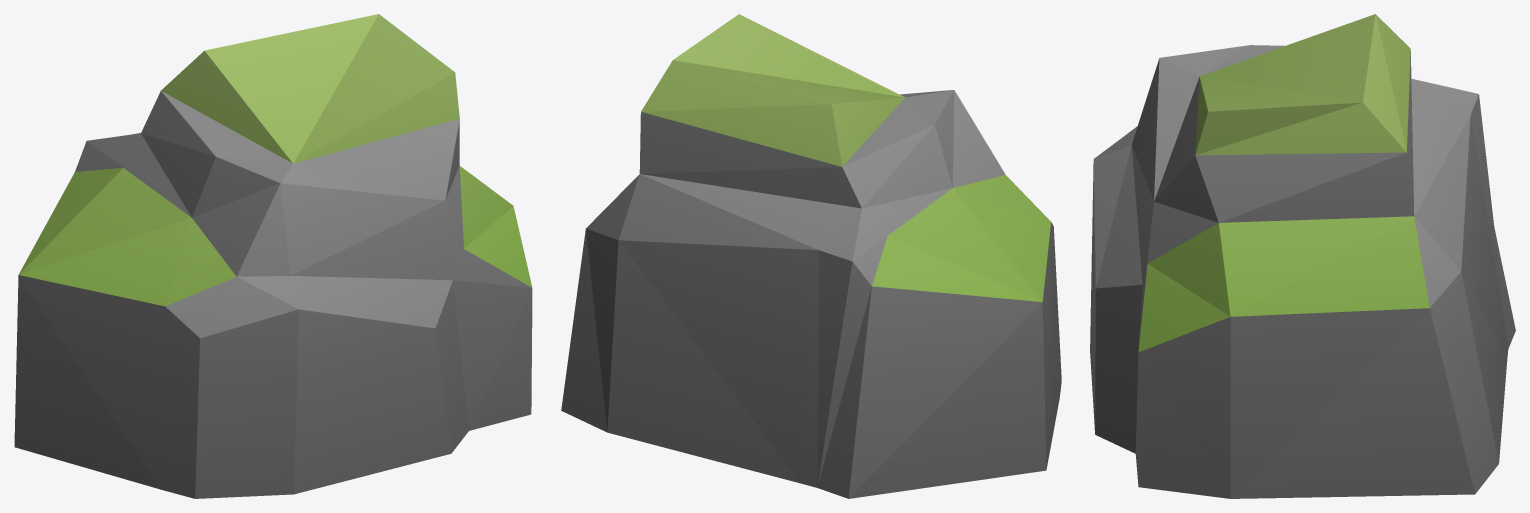
Rendered from green-stone-6.glb.
3 renders of one model, left to right at view 1: azimuth 30°, elevation 25°; view 2: azimuth 150°, elevation 25°; view 3: azimuth 270°, elevation 25°, orthographic. The views are drawn at different scales.
Parts seen in each view (by area): view 1: green stone 6; view 2: green stone 6; view 3: green stone 6.
Boxes of the visible parts, bbox=[...] form: green stone 6: bbox=[14, 14, 532, 498]; green stone 6: bbox=[561, 14, 1061, 498]; green stone 6: bbox=[1090, 14, 1515, 498].
Size of the model in its own units: 1.08 by 0.7739 by 0.8298.
1 material, 1 textured.
